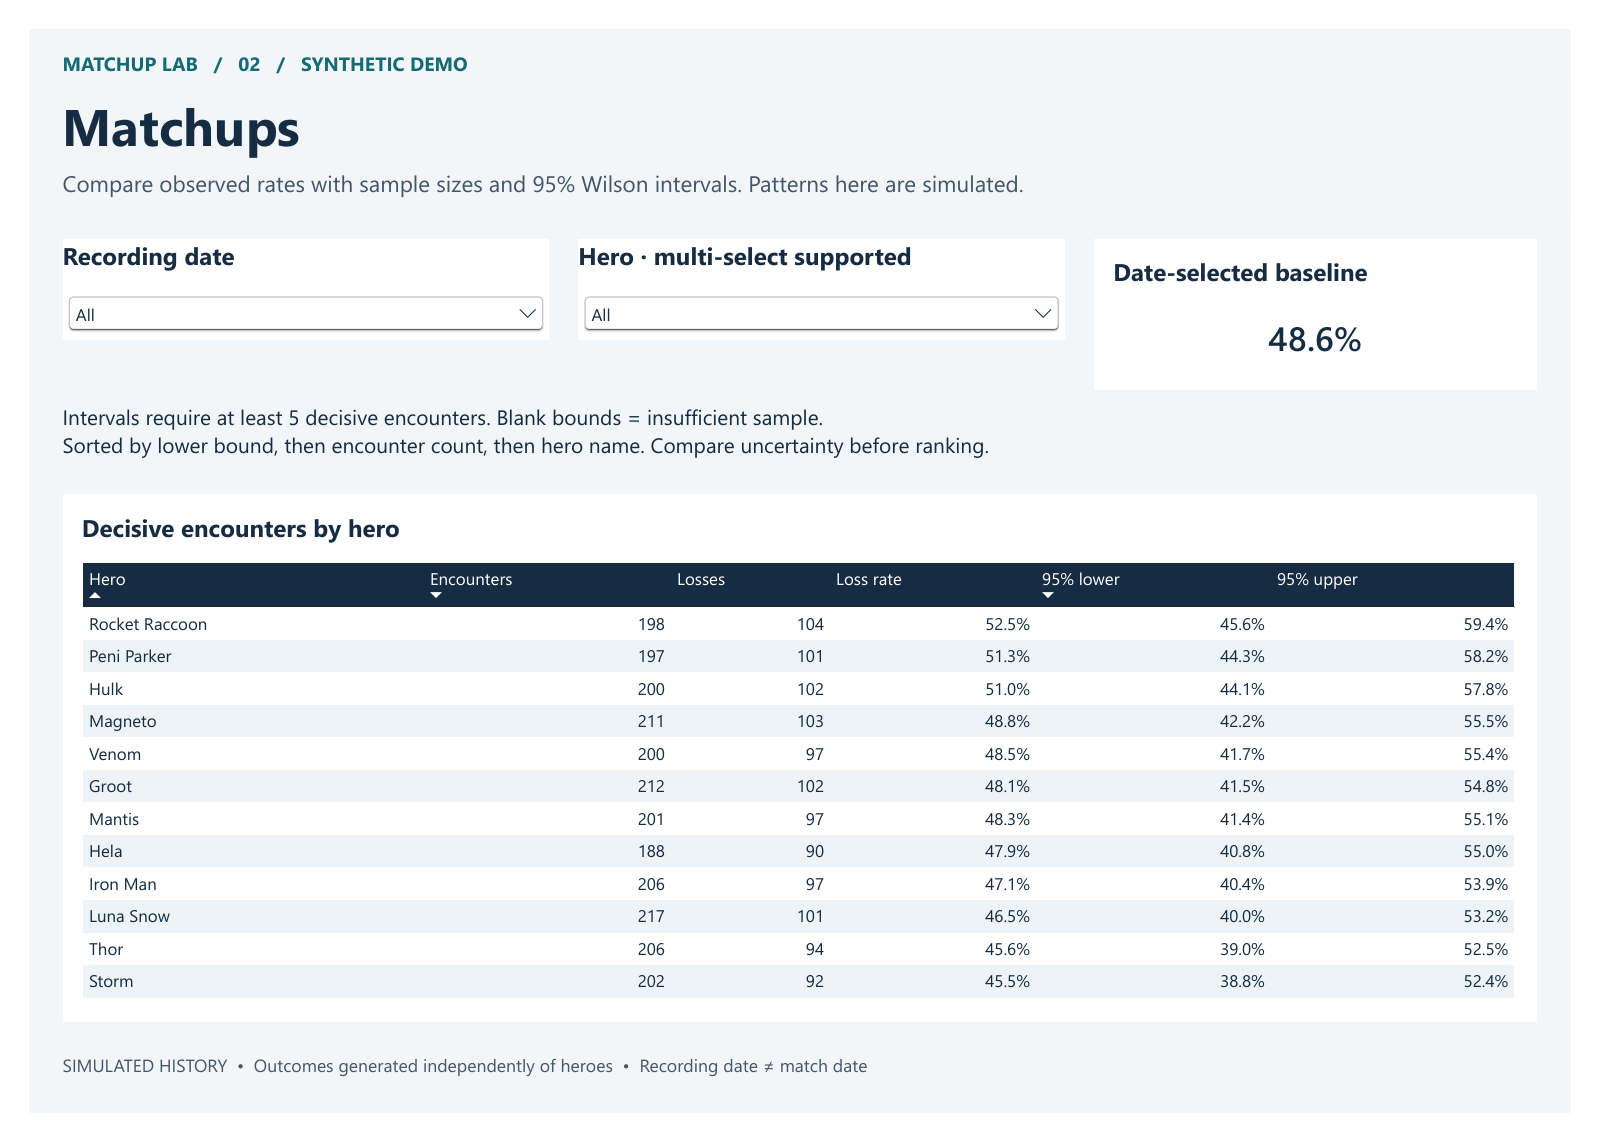

The page's visual inventory and layout, read from the dashboard file:
{"tool":"powerbi","page":{"name":"Matchups","canvas":[1280,900],"ordinal":1},"visuals":[{"type":"textbox","box":[28,18,1224,30],"z":0},{"type":"textbox","box":[28,52,1224,60],"z":1},{"type":"textbox","box":[28,116,1224,50],"z":2},{"type":"textbox","box":[28,850,1224,40],"z":3},{"type":"slicer","title":"Recording date","fields":{"Values":["RecordingDate.RecordingDateKey"]},"box":[28,174,404,84],"z":4},{"type":"slicer","title":"Hero · multi-select supported","fields":{"Values":["Heroes.Hero"]},"box":[456,174,404,84],"z":5},{"type":"card","title":"Date-selected baseline","fields":{"Values":["Matches.Overall Loss Rate"]},"box":[884,174,368,126],"z":6},{"type":"textbox","box":[28,310,1224,60],"z":7},{"type":"tableEx","title":"Decisive encounters by hero","fields":{"Values":["Heroes.Hero","Matches.Hero Encounters","Matches.Hero Losses","Matches.Hero Loss Rate","Matches.Wilson Lower","Matches.Wilson Upper"]},"box":[28,386,1224,438],"z":8}]}

Visuals, with their boxes in screenshot pixels (x1, y1, x2, y2), scaled from the page's 1280x900 canvas onto the 1600x1143 screenshot:
textbox: (x1=35, y1=23, x2=1565, y2=61)
textbox: (x1=35, y1=66, x2=1565, y2=142)
textbox: (x1=35, y1=147, x2=1565, y2=211)
textbox: (x1=35, y1=1080, x2=1565, y2=1130)
"Recording date" slicer: (x1=35, y1=221, x2=540, y2=328)
"Hero · multi-select supported" slicer: (x1=570, y1=221, x2=1075, y2=328)
"Date-selected baseline" card: (x1=1105, y1=221, x2=1565, y2=381)
textbox: (x1=35, y1=394, x2=1565, y2=470)
"Decisive encounters by hero" tableEx: (x1=35, y1=490, x2=1565, y2=1046)
